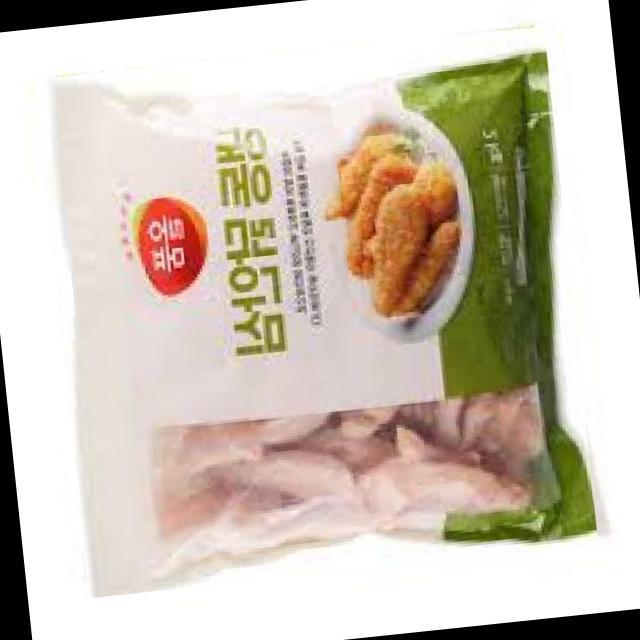chicken: (32, 28, 600, 596)
